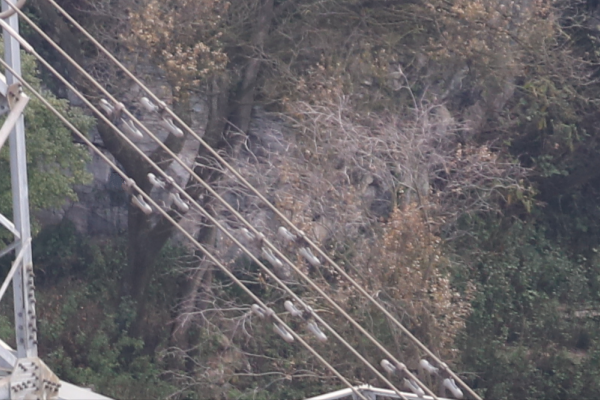damper: (99, 94, 144, 144), (138, 93, 185, 140), (277, 221, 324, 268), (418, 353, 465, 400), (377, 355, 425, 400), (282, 297, 328, 343), (249, 299, 295, 343), (239, 223, 282, 270), (147, 170, 190, 213)
damper_defect: (120, 176, 152, 217)
